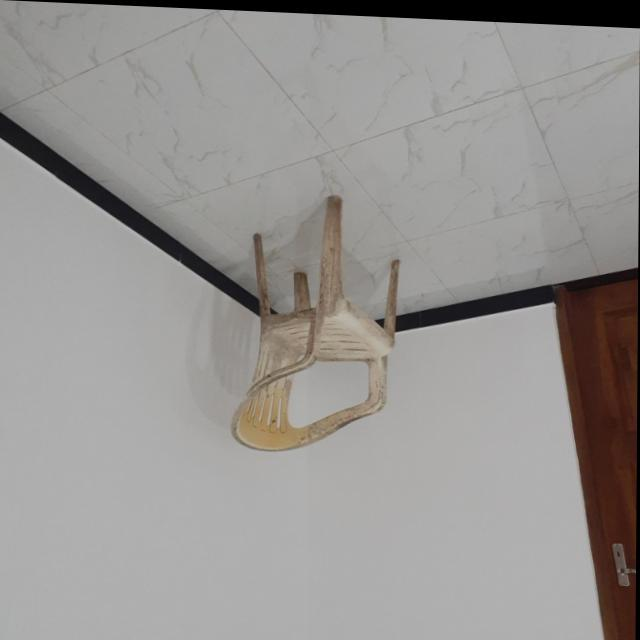Chair: (232, 188, 402, 455)
